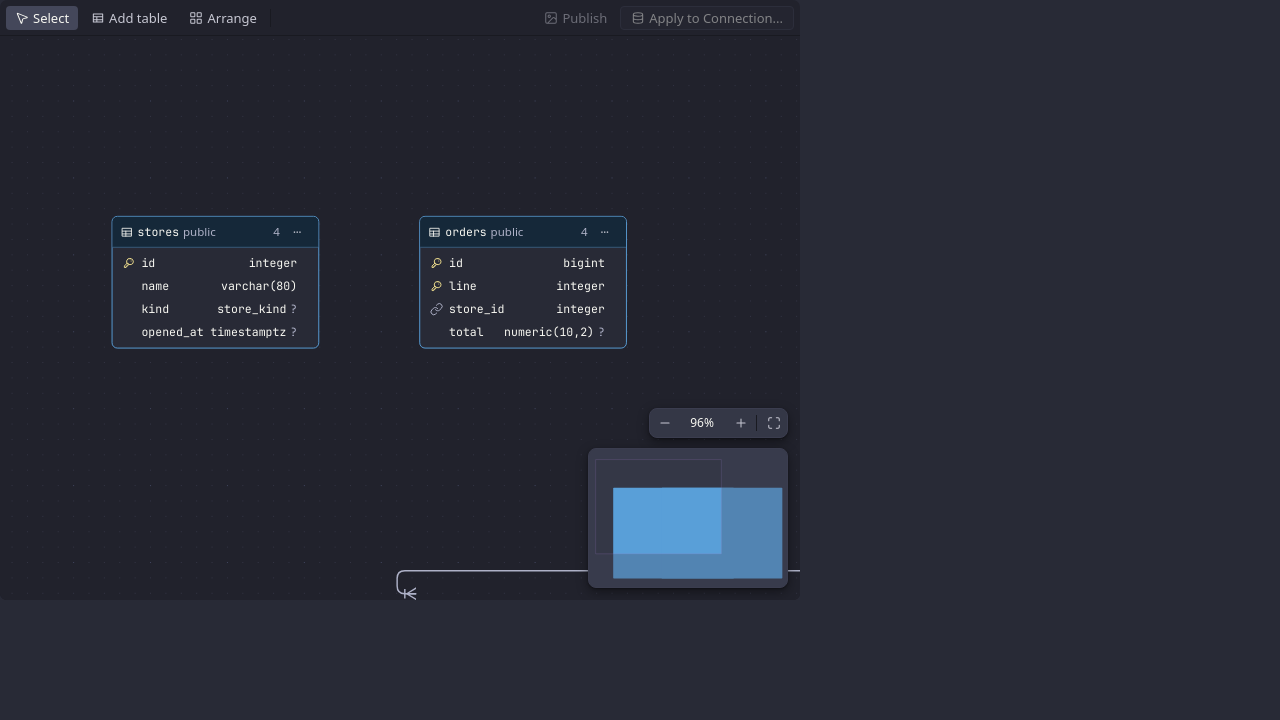
it: card_ask_with_deleted_source_connection_names_the_gone_connection
The width and height of the screenshot is (1280, 720).
Click the button named "Table actions".
click(297, 232)  # box [284,218,311,245]
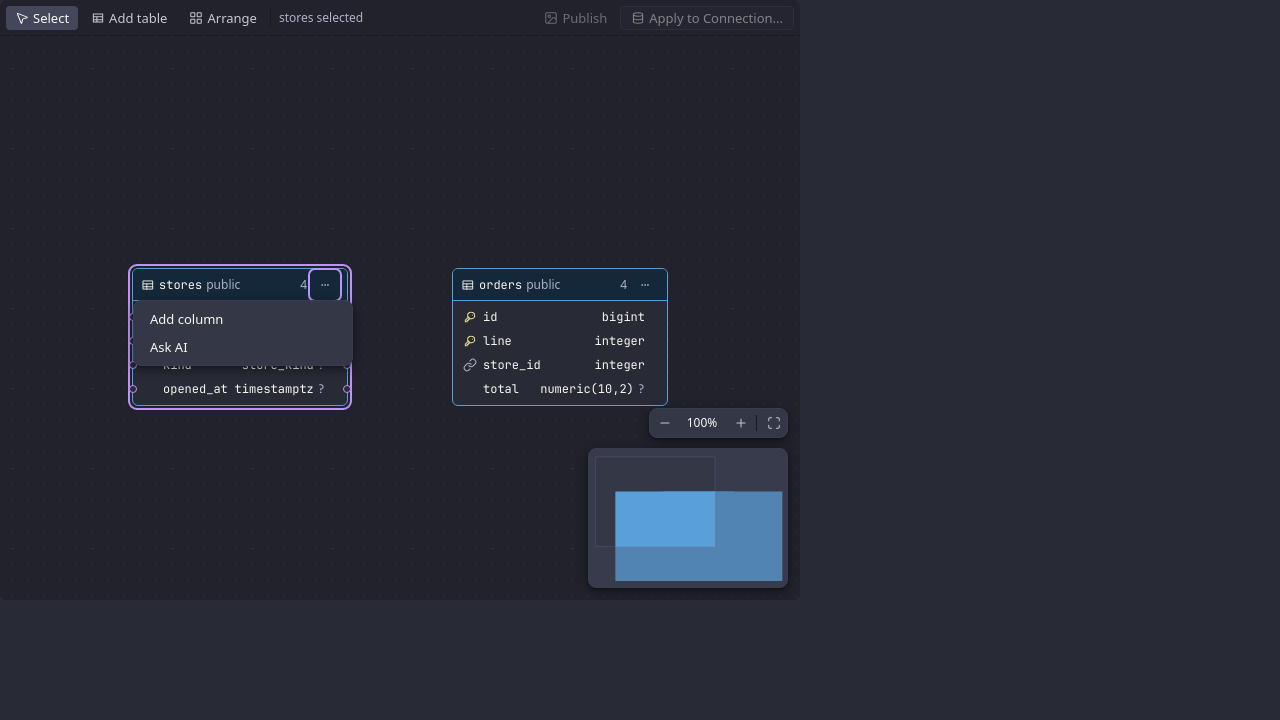
Click the menu item "Ask AI".
click(243, 347)  # box [138,333,348,361]
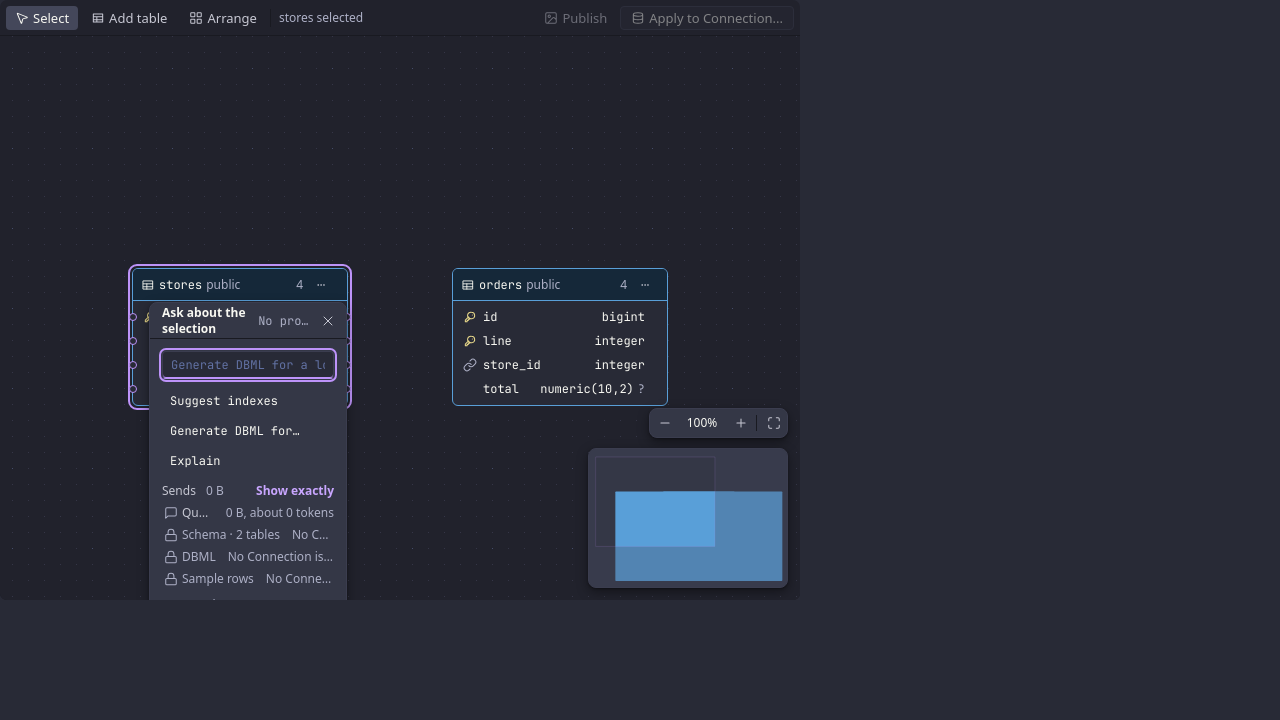
Click the button "Explain".
click(248, 461)  # box [162,447,334,475]
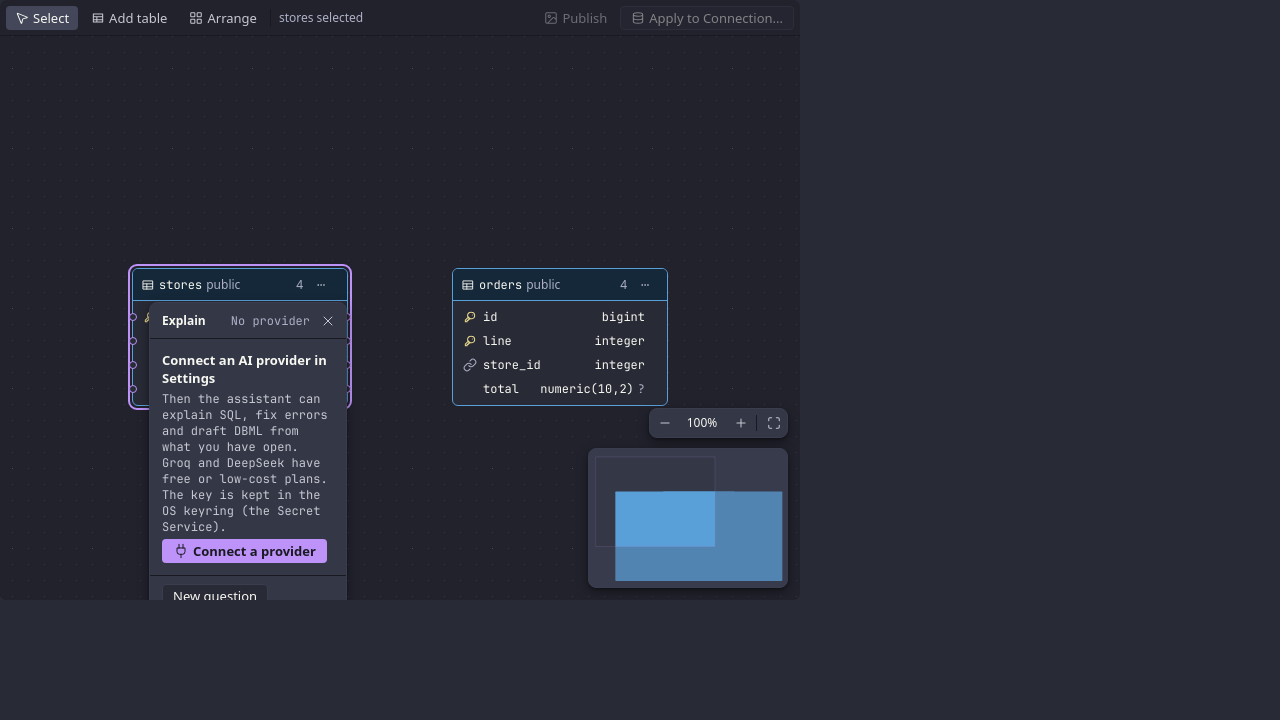
Expected: the text "Connect an AI provider in Settings" is shown, [162,351,334,387]
